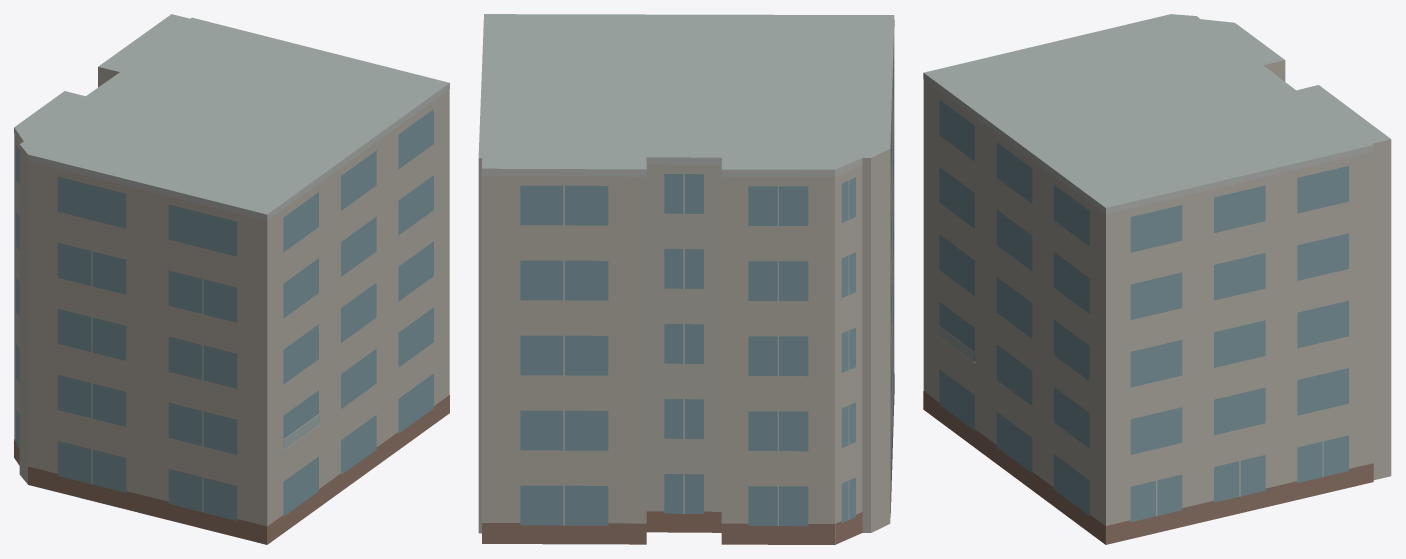
Rendered from survey-upis-32737203.glb.
3 renders of one model, left to right at view 1: azimuth 30°, elevation 25°; view 2: azimuth 150°, elevation 25°; view 3: azimuth 270°, elevation 25°, orthographic. The views are drawn at different scales.
Visible parts, largest first — view 1: survey-upis-32737203.tmp; view 2: survey-upis-32737203.tmp; view 3: survey-upis-32737203.tmp.
Boxes of the visible parts, bbox=[...] form: survey-upis-32737203.tmp: bbox=[14, 14, 449, 544]; survey-upis-32737203.tmp: bbox=[478, 14, 894, 544]; survey-upis-32737203.tmp: bbox=[923, 14, 1391, 544].
Bounding box in the file's own units: 15.69 × 12.7 × 16.
